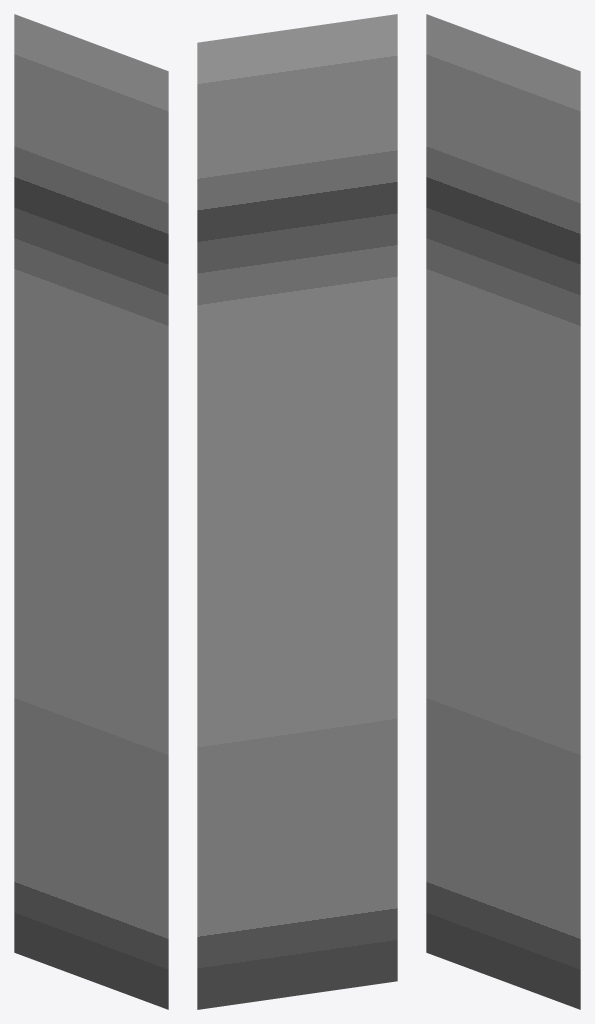
3 renders of one model, left to right at view 1: azimuth 90°, elevation 25°; view 2: azimuth 150°, elevation 25°; view 3: azimuth 270°, elevation 25°, orthographic. The views are drawn at different scales.
Bounding box in the file's own units: 0.3929 × 3 × 0.4474.
Materials: 1 (1 with a texture image).
